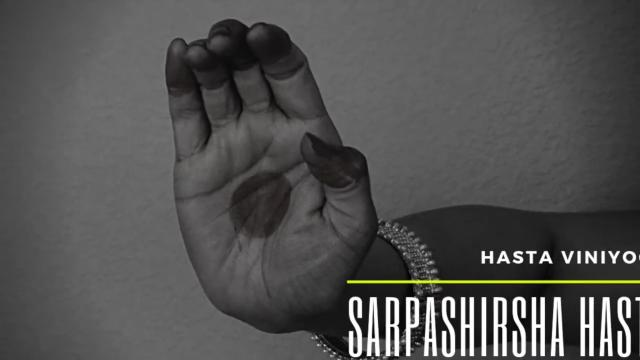sarpsheesh: (143, 13, 379, 340)
